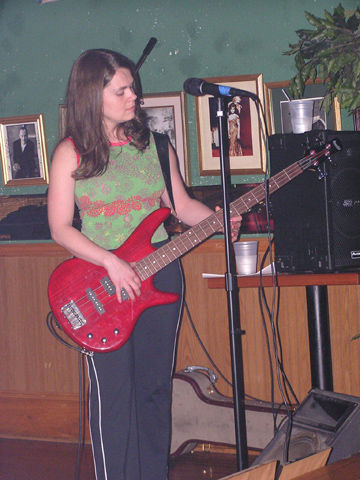person: (50, 49, 244, 480)
